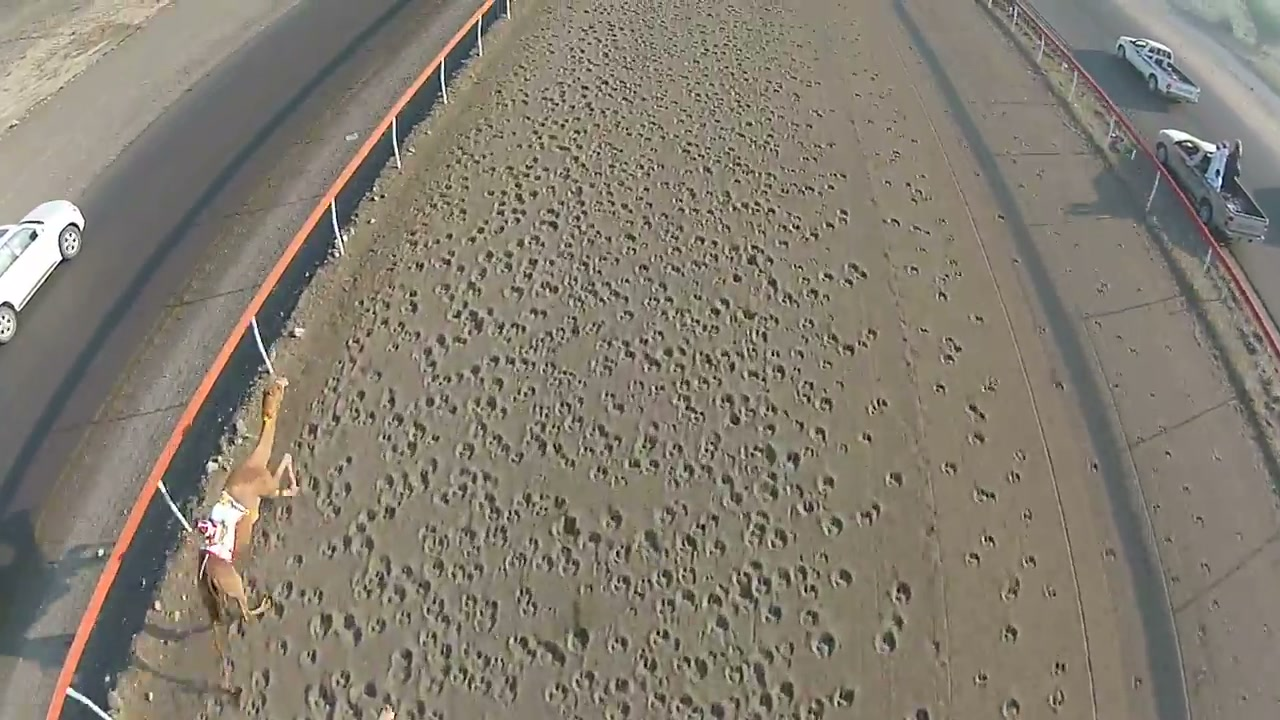animal_footprint: (233, 0, 1088, 719)
